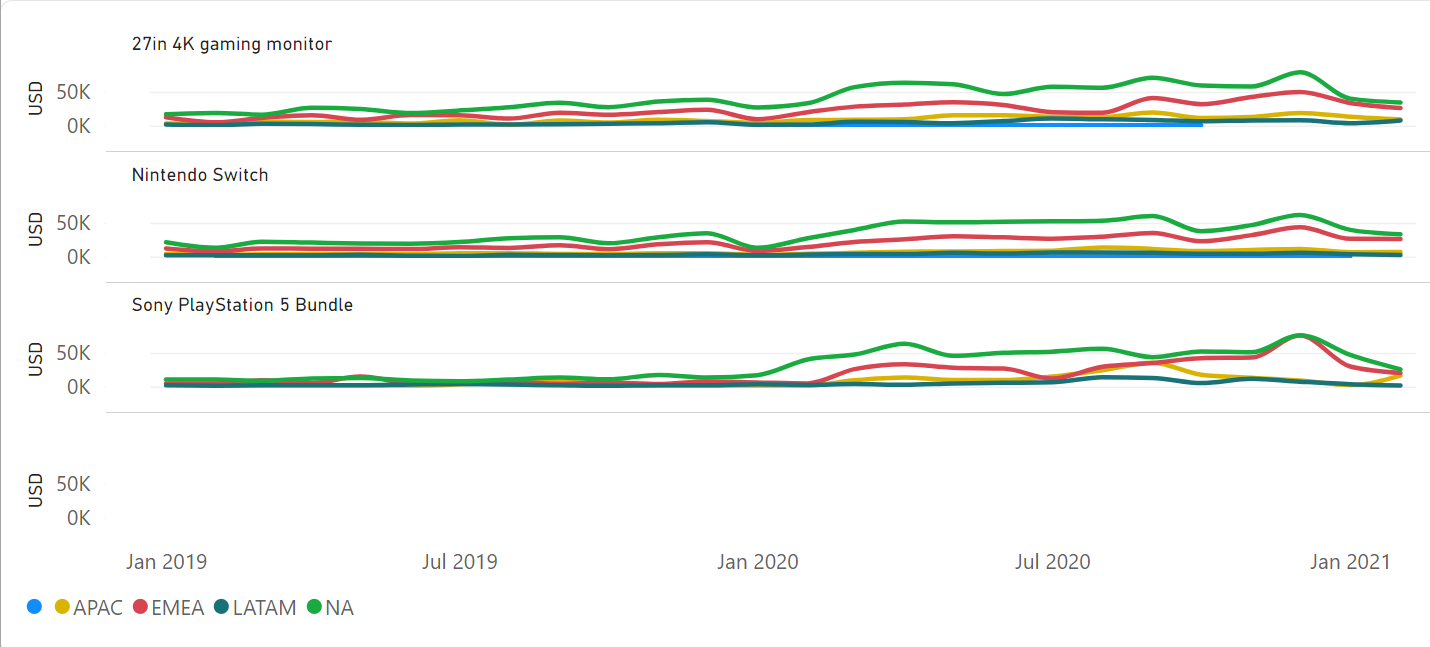

This screenshot's page, from the dashboard's own definition file:
{"tool":"powerbi","page":{"name":"Page 3","canvas":[1920,1080],"ordinal":2},"visuals":[{"type":"lineChart","fields":{"Category":["gamergear_dataset.PURCHASE_Date.Variation.Date Hierarchy.Year","gamergear_dataset.PURCHASE_Date.Variation.Date Hierarchy.Quarter","gamergear_dataset.PURCHASE_Date.Variation.Date Hierarchy.Month","gamergear_dataset.PURCHASE_Date.Variation.Date Hierarchy.Day"],"Rows":["gamergear_dataset.PRODUCT_NAME"],"Series":["gamergear_dataset.MARKETING_CHANNEL"],"Y":["Sum(gamergear_dataset.USD_PRICE)"]},"box":[958.9,0,961.2,539.2],"z":0},{"type":"lineChart","fields":{"Category":["gamergear_dataset.PURCHASE_Date.Variation.Date Hierarchy.Year","gamergear_dataset.PURCHASE_Date.Variation.Date Hierarchy.Quarter","gamergear_dataset.PURCHASE_Date.Variation.Date Hierarchy.Month","gamergear_dataset.PURCHASE_Date.Variation.Date Hierarchy.Day"],"Rows":["gamergear_dataset.PRODUCT_NAME"],"Series":["gamergear_dataset.REGION"],"Y":["Sum(gamergear_dataset.USD_PRICE)"]},"box":[0,0,961.2,539.2],"z":2000},{"type":"lineChart","fields":{"Category":["gamergear_dataset.PURCHASE_Date.Variation.Date Hierarchy.Year","gamergear_dataset.PURCHASE_Date.Variation.Date Hierarchy.Quarter","gamergear_dataset.PURCHASE_Date.Variation.Date Hierarchy.Month","gamergear_dataset.PURCHASE_Date.Variation.Date Hierarchy.Day"],"Series":["gamergear_dataset.REGION"],"Y":["Sum(gamergear_dataset.USD_PRICE)"]},"box":[966.7,539.6,952.3,539.6],"z":2001}]}

Visuals, with their boxes on the page's 1920x1080 design canvas (x1, y1, x2, y2). These are canvas units, not pixel positions in the 1430x647 screenshot, which may show the page scaled, cropped or inside an application window:
lineChart - gamergear_dataset.PURCHASE_Date.Variation.Date Hierarchy.Year x gamergear_dataset.PURCHASE_Date.Variation.Date Hierarchy.Quarter: 959, 0, 1920, 539
lineChart - gamergear_dataset.PURCHASE_Date.Variation.Date Hierarchy.Year x gamergear_dataset.PURCHASE_Date.Variation.Date Hierarchy.Quarter: 0, 0, 961, 539
lineChart - gamergear_dataset.PURCHASE_Date.Variation.Date Hierarchy.Year x gamergear_dataset.PURCHASE_Date.Variation.Date Hierarchy.Quarter: 967, 540, 1919, 1079
